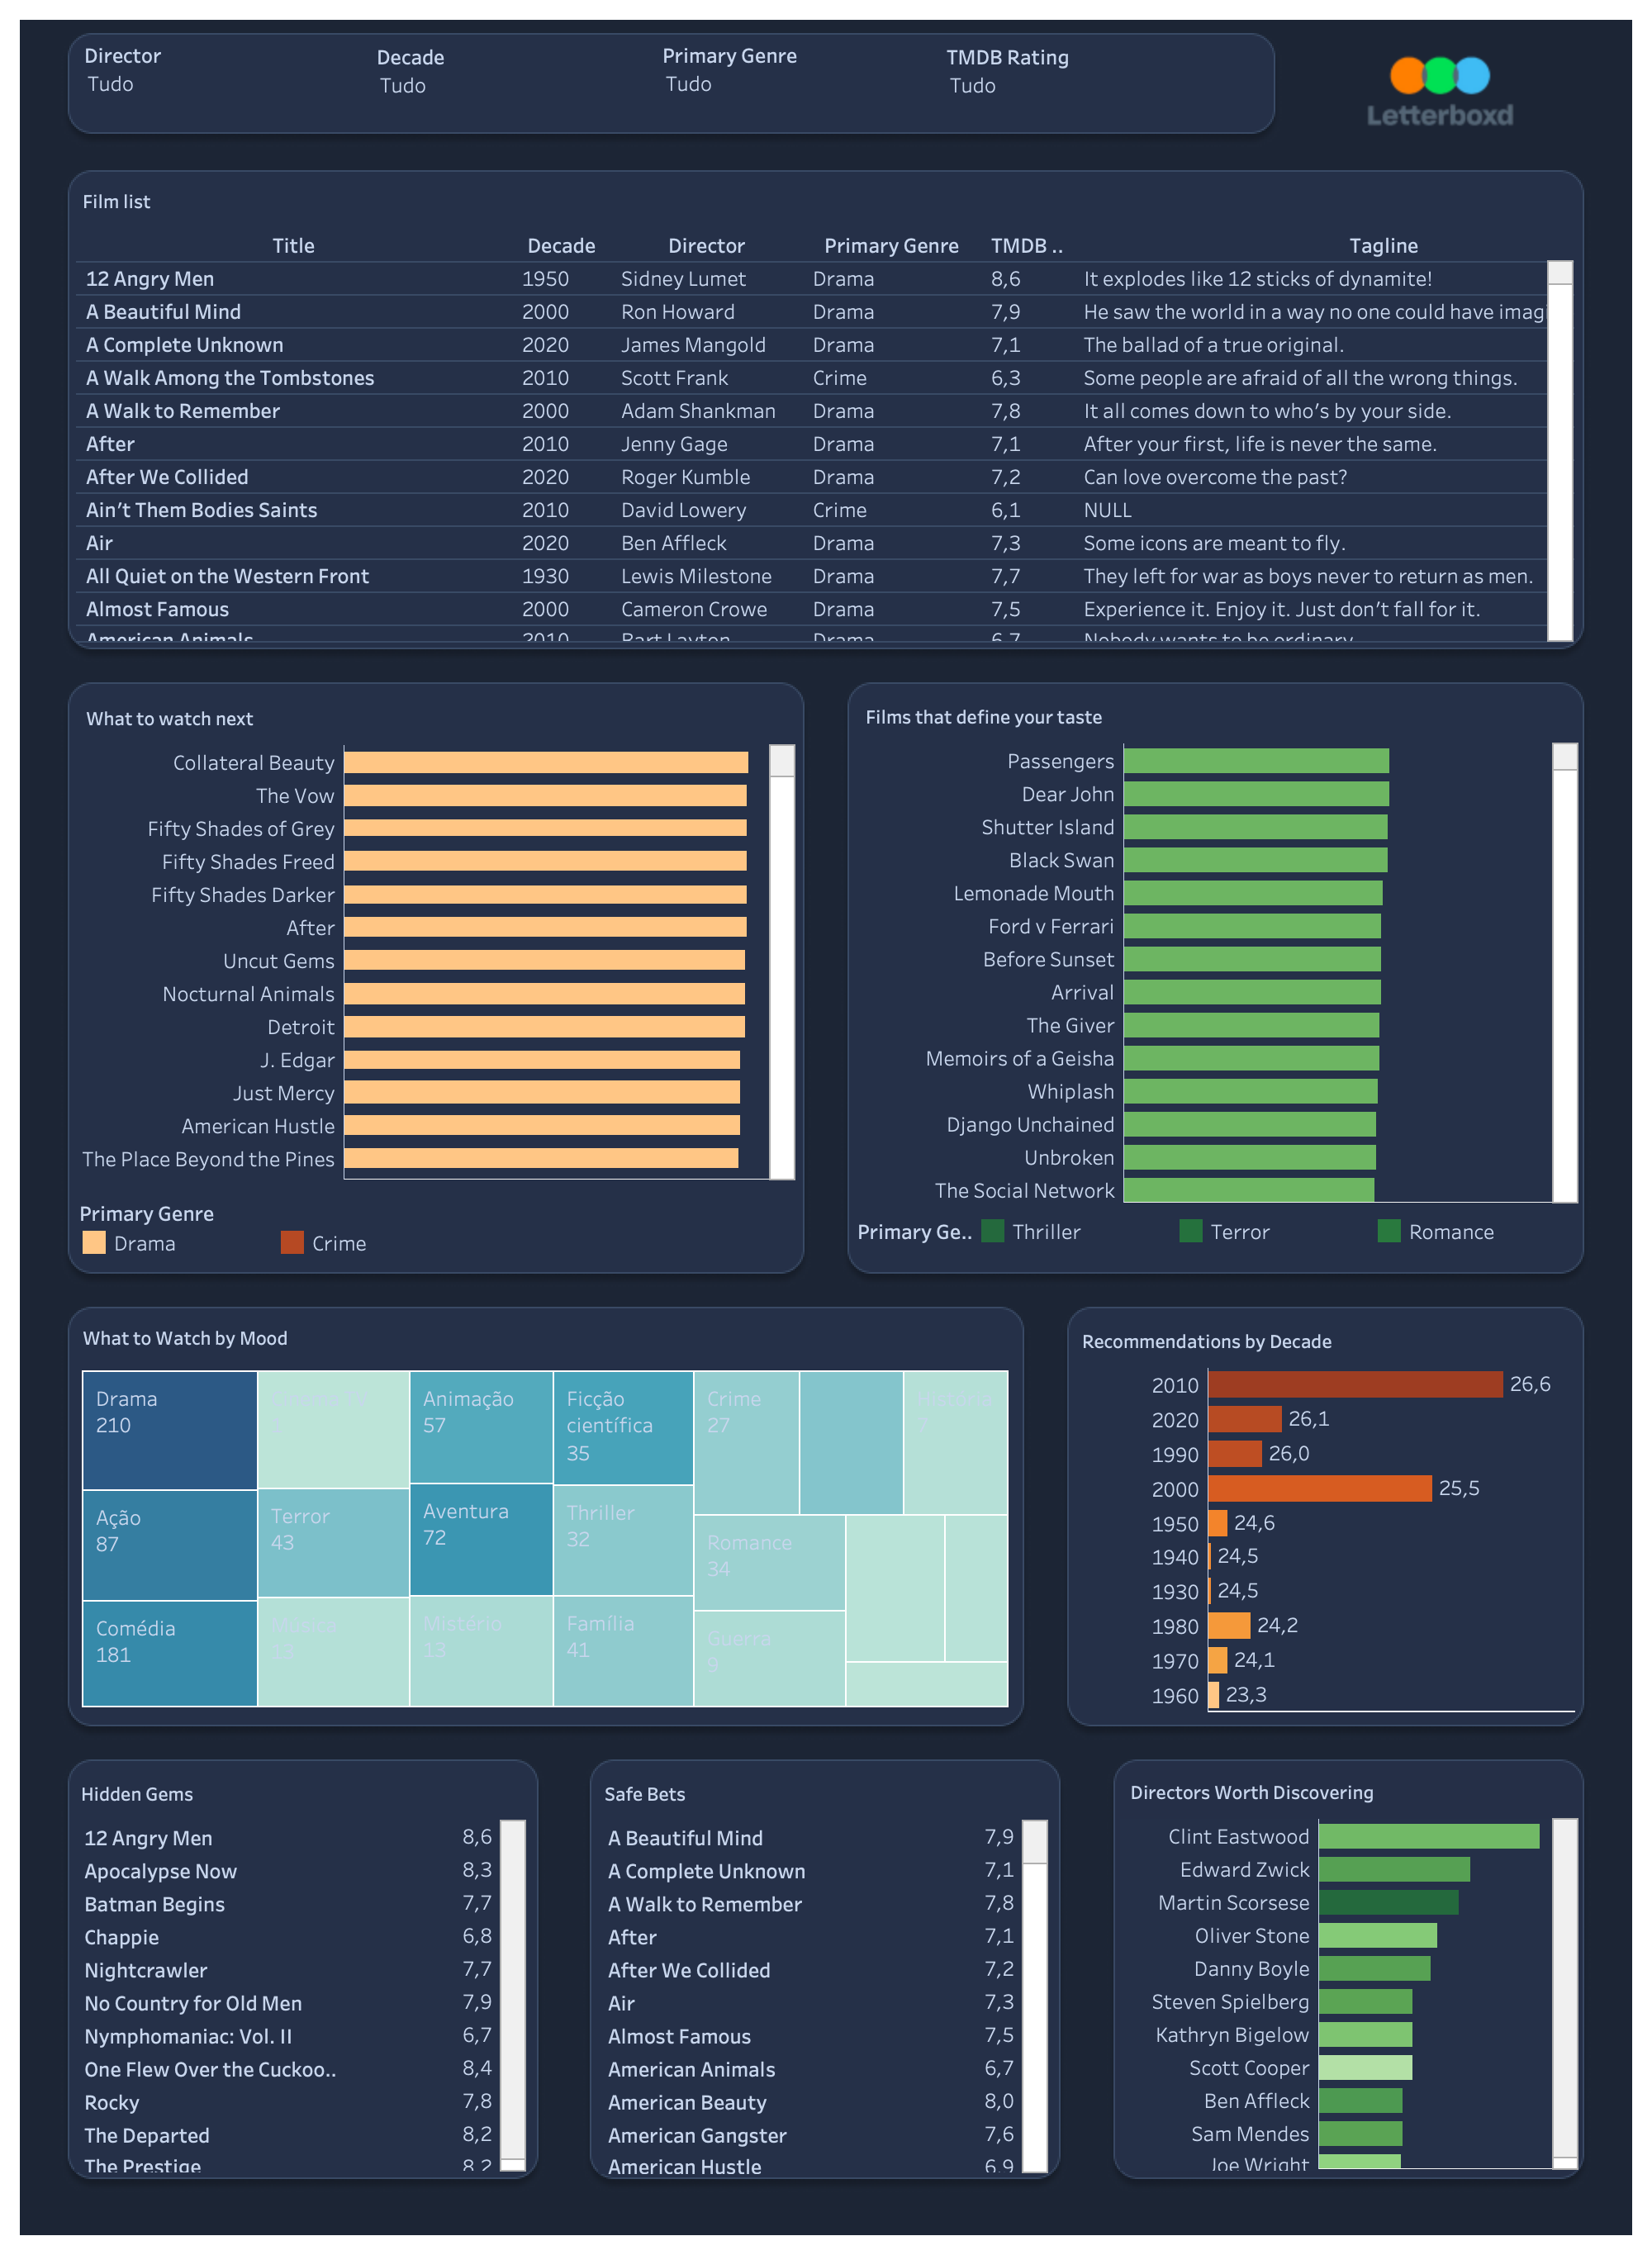

The page's visual inventory and layout, read from the dashboard file:
{"tool":"tableau","page":{"name":"Recommendation","canvas":[1000,1365],"ordinal":0},"visuals":[{"type":"image","param":"/Users/jamille.ghazaleh/Downloads/Github/letterboxd/layout/Section 2 (1).png","box":[8,8,984,1349]},{"type":"filter","title":"Main Table (2)","param":"[federated.1inbq401dqdez41g7rrbr0ykowtq].[none:Director:nk]","box":[51,24,160,51]},{"type":"filter","title":"Main Table (2)","param":"[federated.1inbq401dqdez41g7rrbr0ykowtq].[none:Primary Genre:nk]","box":[401,24,160,50]},{"type":"image","param":"/var/folders/fg/bck100cn6xx4bpw1fwjbyv900000gn/T/tableau-temp/0hrz0cx110c33l19c1","box":[806,24,133,62]},{"type":"filter","title":"Main Table (2)","param":"[federated.1inbq401dqdez41g7rrbr0ykowtq].[none:Decade:nk]","box":[228,25,160,50]},{"type":"filter","title":"Main Table (2)","param":"[federated.1inbq401dqdez41g7rrbr0ykowtq].[none:TMDB Rating:ok]","box":[573,25,190,49]},{"type":"worksheet","title":"Main Table (2)","mark":"Automatic","rows":["Title","Decade","Director","Primary Genre","TMDB Rating","Tagline"],"box":[46,108,907,281]},{"type":"worksheet","title":"Films that define your taste","mark":"Automatic","rows":["Title"],"cols":["Calculation_2059442128445441"],"box":[520,420,436,308]},{"type":"worksheet","title":"What to watch next","mark":"Automatic","rows":["Title"],"cols":["Taste Match Score"],"box":[48,421,434,293]},{"type":"legend","title":"What to watch next","param":"[federated.1inbq401dqdez41g7rrbr0ykowtq].[none:Primary Genre:nk]","box":[47,724,434,39]},{"type":"legend","title":"Films that define your taste","param":"[federated.05zg4a00elwfq8104ltzm1jy10jv].[none:Primary Genre:nk]","box":[519,735,435,31]},{"type":"worksheet","title":"What to Watch by Mood ","mark":"Automatic","box":[46,796,568,242]},{"type":"worksheet","title":"Recommendations by Decade","mark":"Automatic","rows":["Decade"],"cols":["Title"],"box":[651,798,302,239]},{"type":"worksheet","title":" Directors Worth Discovering","mark":"Automatic","rows":["Director"],"cols":["Taste Match Score"],"box":[678,1071,278,242]},{"type":"worksheet","title":"Hidden Gems","mark":"Automatic","rows":["Title"],"box":[45,1072,274,242]},{"type":"worksheet","title":"Safe Bets","mark":"Automatic","rows":["Title"],"box":[362,1072,273,243]}]}

Visuals, with their boxes in screenshot pixels (x1, y1, x2, y2), scaled from the page's 1000x1365 canvas onto the 1652x2255 screenshot:
image: 13, 13, 1639, 2242
"Main Table (2)" filter: 84, 40, 349, 124
"Main Table (2)" filter: 662, 40, 927, 122
image: 1332, 40, 1551, 142
"Main Table (2)" filter: 377, 41, 641, 124
"Main Table (2)" filter: 947, 41, 1260, 122
"Main Table (2)" worksheet: 76, 178, 1574, 643
"Films that define your taste" worksheet: 859, 694, 1579, 1203
"What to watch next" worksheet: 79, 695, 796, 1180
"What to watch next" legend: 78, 1196, 795, 1260
"Films that define your taste" legend: 857, 1214, 1576, 1265
"What to Watch by Mood " worksheet: 76, 1315, 1014, 1715
"Recommendations by Decade" worksheet: 1075, 1318, 1574, 1713
" Directors Worth Discovering" worksheet: 1120, 1769, 1579, 2169
"Hidden Gems" worksheet: 74, 1771, 527, 2171
"Safe Bets" worksheet: 598, 1771, 1049, 2172
